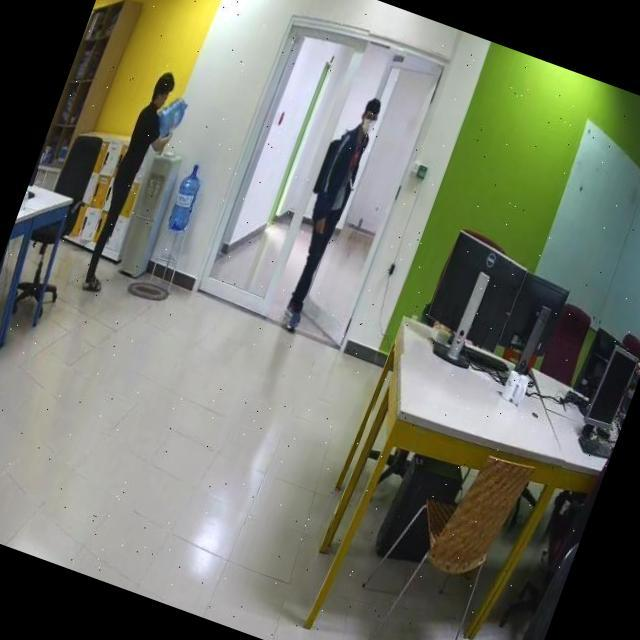person: (263, 86, 392, 336), (74, 69, 180, 298)
